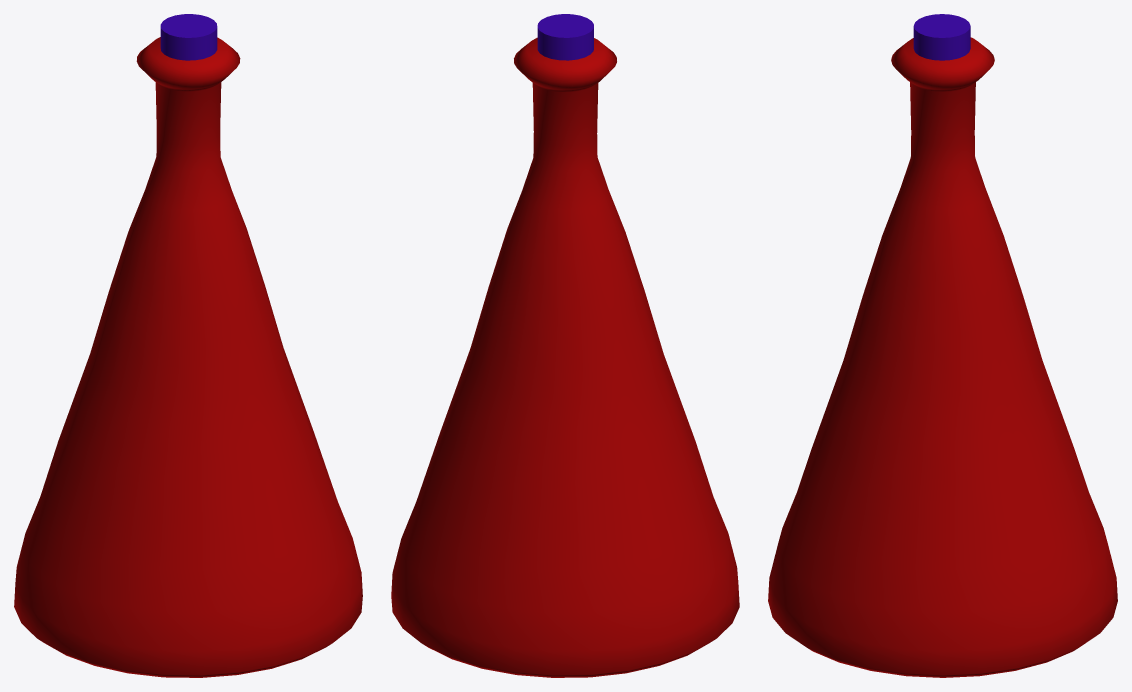
Rendered from FlaskSmall.fbx.
The picture shows the model from 3 angles, left to right: view 1: azimuth 30°, elevation 25°; view 2: azimuth 150°, elevation 25°; view 3: azimuth 270°, elevation 25°; orthographic projection.
Visible parts, largest first — view 1: Flask_Small; view 2: Flask_Small; view 3: Flask_Small.
Boxes of the visible parts, x1,y1,x2,y2 form: Flask_Small: [14, 14, 362, 677]; Flask_Small: [391, 14, 739, 677]; Flask_Small: [768, 14, 1117, 677].
Size of the model in its own units: 12.29 by 22.61 by 12.29.
